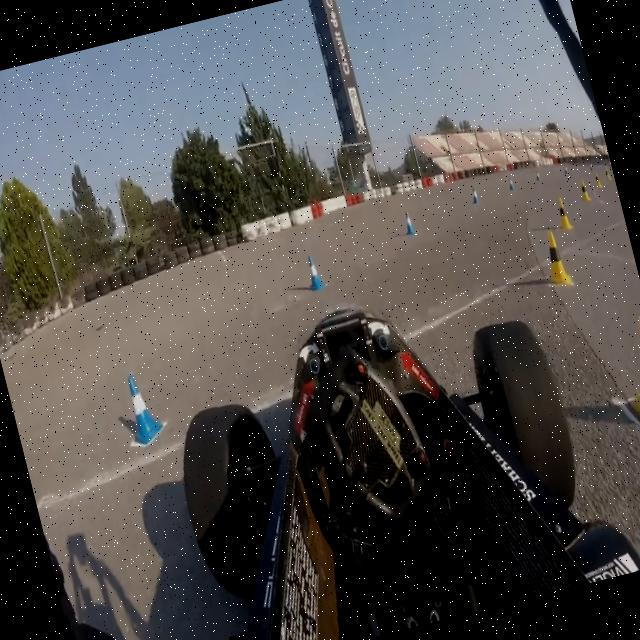blue_cone: (121, 371, 160, 441), (304, 254, 326, 292), (402, 210, 416, 236), (468, 184, 478, 204), (506, 174, 514, 192), (534, 170, 542, 184)
yellow_cone: (613, 310, 640, 435), (538, 230, 570, 288), (552, 195, 572, 231), (576, 177, 590, 204), (590, 168, 604, 192), (602, 164, 614, 186)
